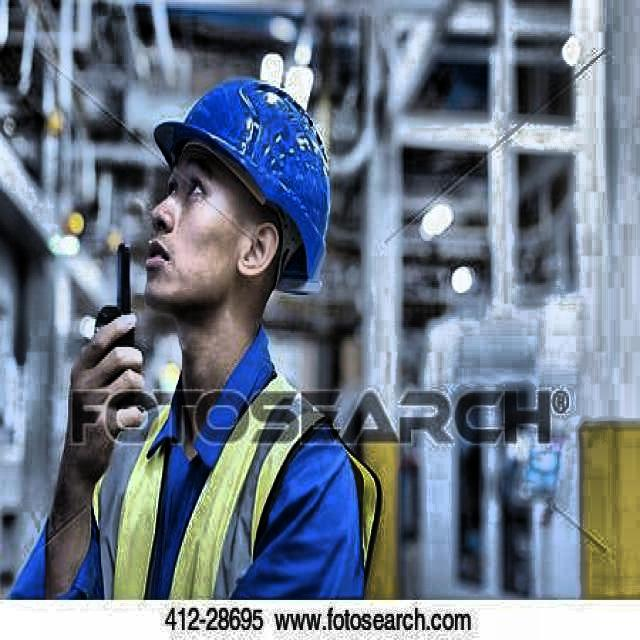person: (42, 70, 376, 602)
